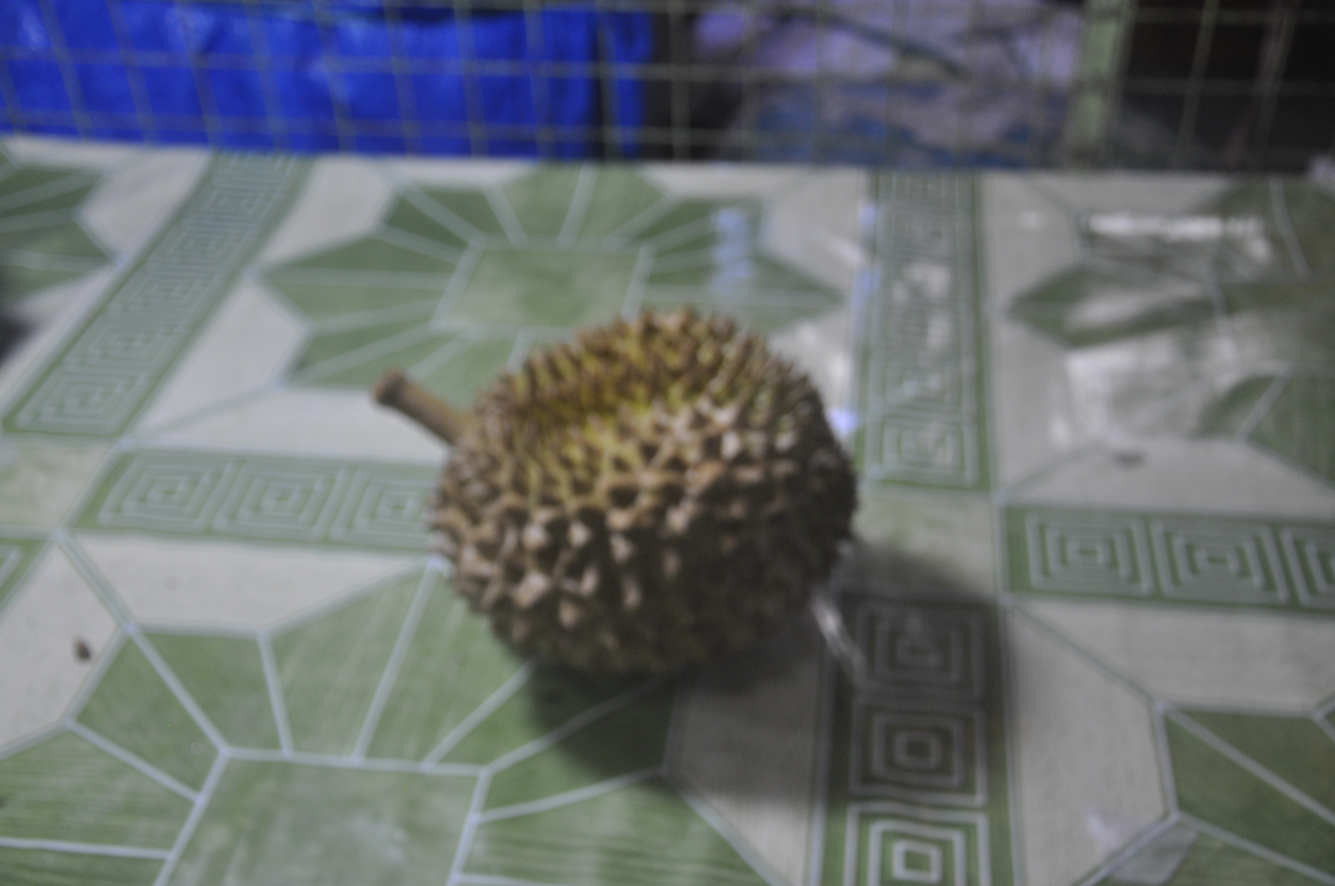mature: (376, 308, 856, 672)
